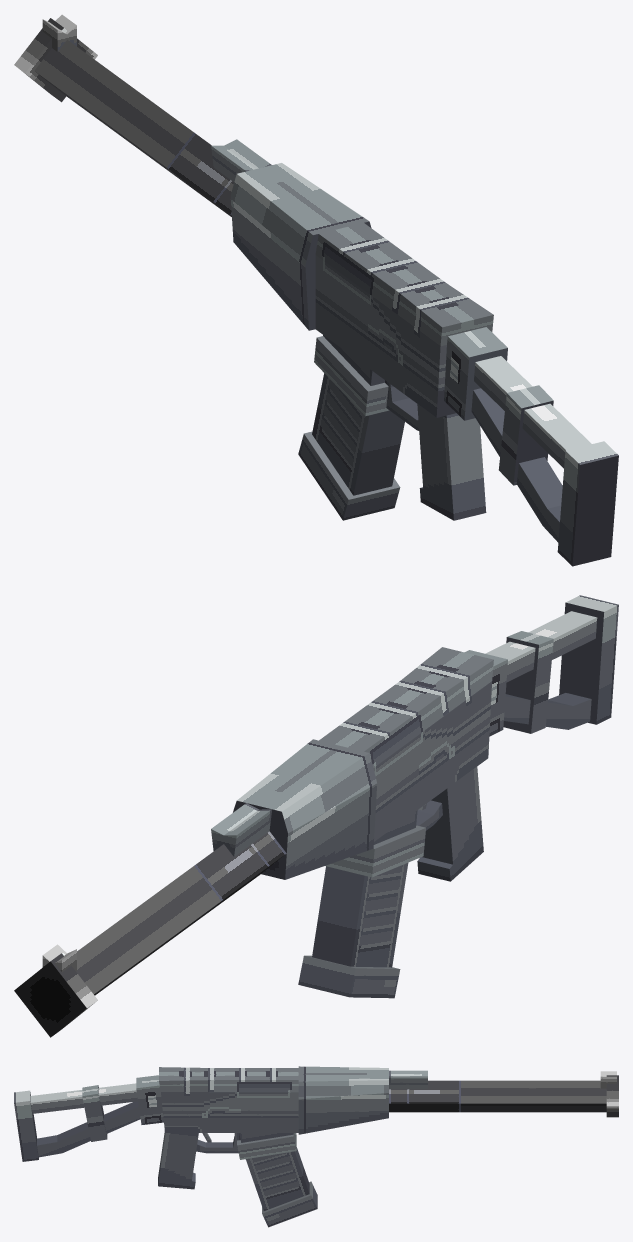
File: asval.gltf
The picture shows the model from 3 angles, top to bottom: view 1: azimuth 30°, elevation 25°; view 2: azimuth 150°, elevation 25°; view 3: azimuth 270°, elevation 25°; orthographic projection. The views are drawn at different scales.
Visible parts, largest first — view 1: cube (×16); view 2: cube (×14); view 3: cube (×17).
Part boxes in pixels (x1=…): cube (×16): x1=14, y1=14, x2=618, y2=566; cube (×14): x1=14, y1=595, x2=618, y2=1037; cube (×17): x1=14, y1=1066, x2=618, y2=1227.
Bounding box in the file's own units: 0.3536 × 1.23 × 4.6.
Materials: 2 (2 with a texture image).
